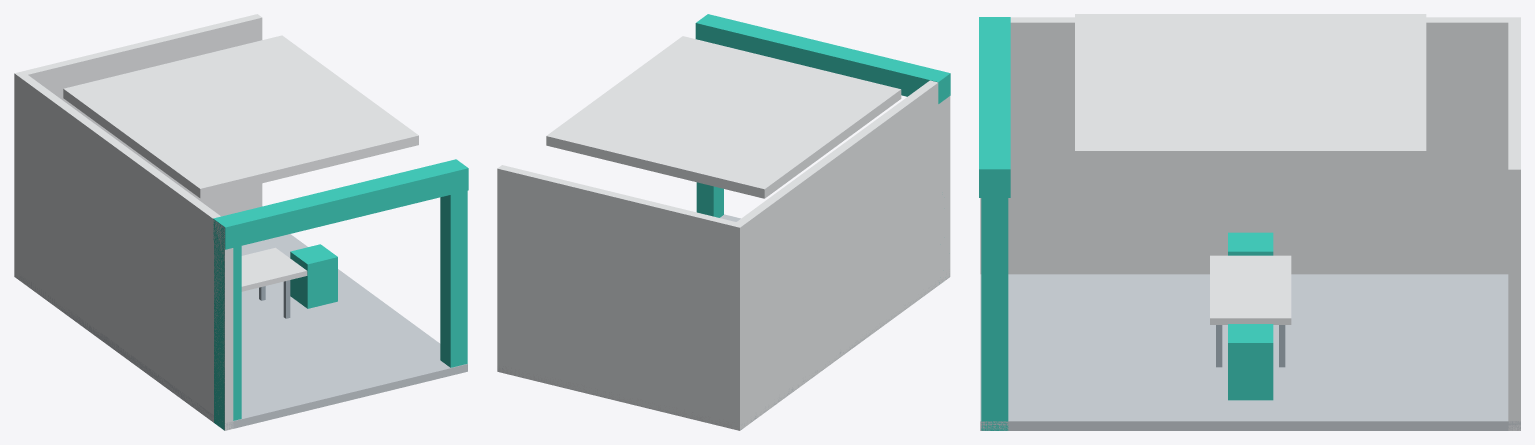
3 views of the same model, side by side, from view 1: azimuth 30°, elevation 25°; view 2: azimuth 150°, elevation 25°; view 3: azimuth 270°, elevation 25° (orthographic). The views are drawn at different scales.
Parts seen in each view (by area): view 1: Exhibition Booth Concept; view 2: Exhibition Booth Concept; view 3: Exhibition Booth Concept.
Part boxes in pixels (<box>): Exhibition Booth Concept: <box>14,14,468,430</box>; Exhibition Booth Concept: <box>497,14,950,430</box>; Exhibition Booth Concept: <box>979,14,1520,430</box>.
Bounding box in the file's own units: 4 × 3.34 × 6.02.
